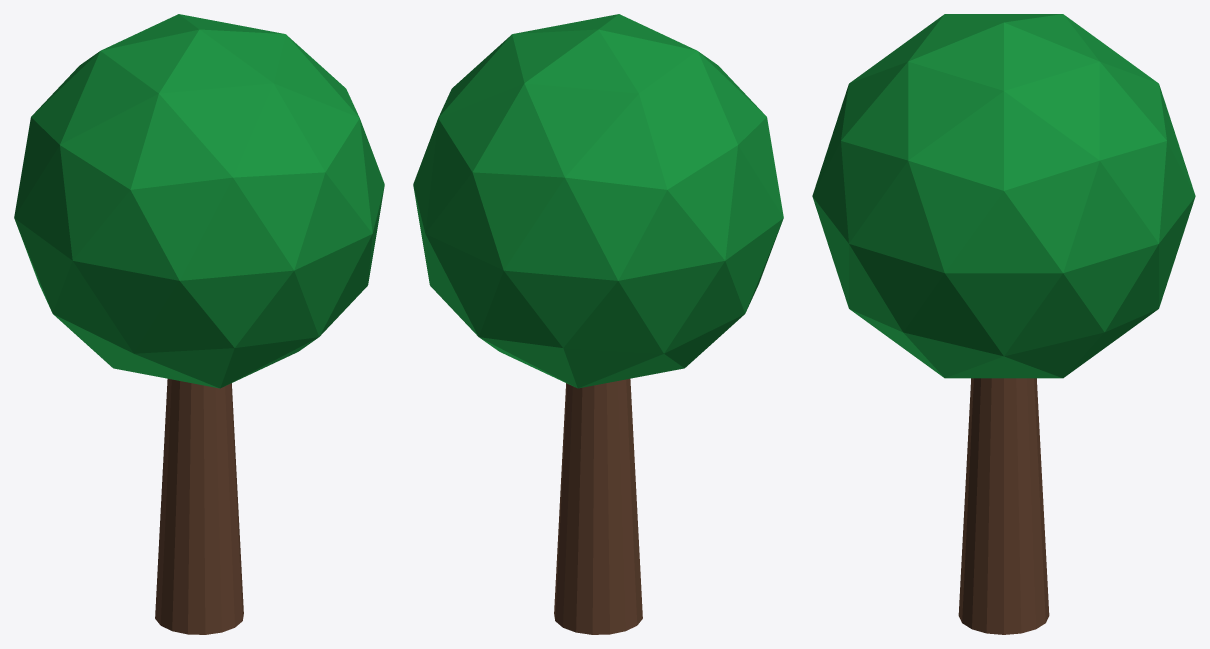
Rendered from tree1.glb.
3 renders of one model, left to right at view 1: azimuth 30°, elevation 25°; view 2: azimuth 150°, elevation 25°; view 3: azimuth 270°, elevation 25°, orthographic.
Parts seen in each view (by area): view 1: Icosphere, Cylinder; view 2: Icosphere, Cylinder; view 3: Icosphere, Cylinder.
Boxes of the visible parts, x1,y1,x2,y2 form: Icosphere: (14,14,384,388); Cylinder: (155,378,243,634); Icosphere: (413,14,783,388); Cylinder: (554,378,642,634); Icosphere: (812,14,1195,378); Cylinder: (958,378,1049,634).
Size of the model in its own units: 1.9 by 3.42 by 2.
